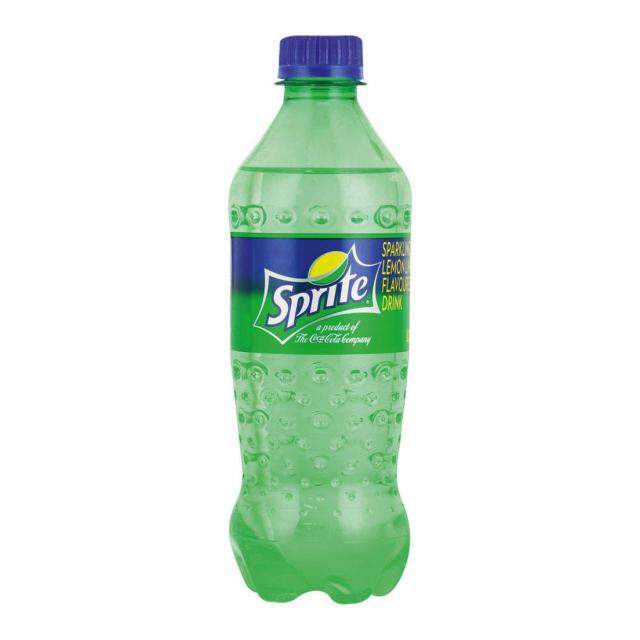plastic_bottle: (214, 27, 429, 616)
